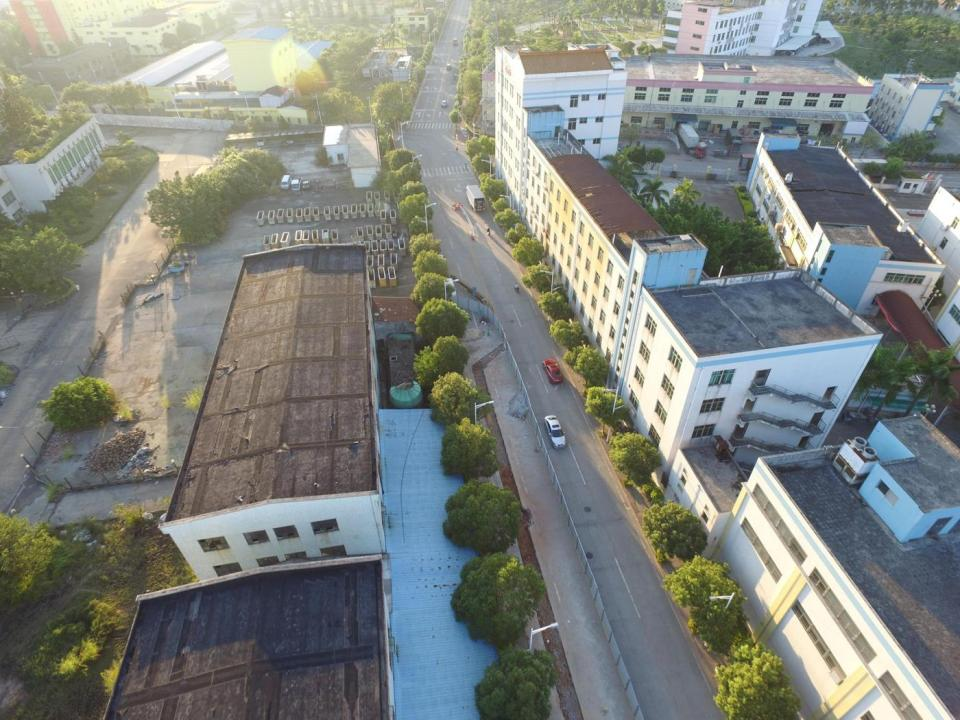car: (544, 414, 566, 450), (542, 359, 562, 384), (301, 179, 310, 191), (258, 134, 266, 147), (288, 131, 294, 144), (441, 99, 447, 108), (446, 63, 450, 69)
truck: (678, 123, 708, 159), (738, 152, 783, 174), (466, 185, 485, 212), (725, 127, 742, 153), (291, 175, 301, 191)
van: (280, 174, 292, 191)
